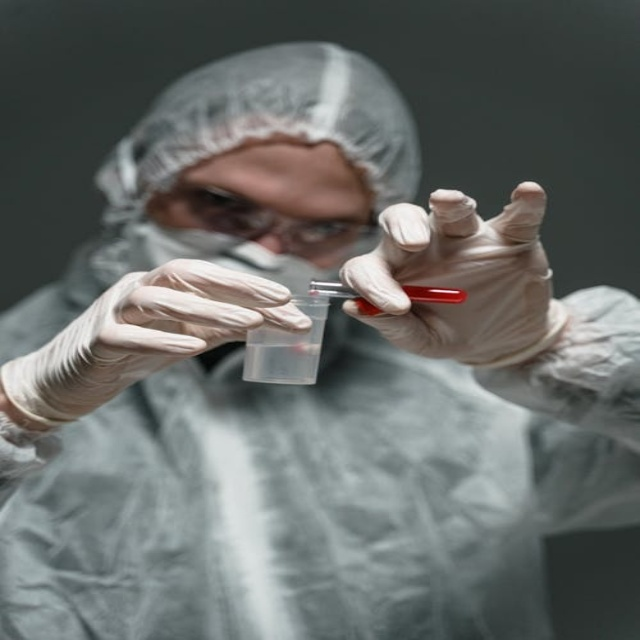Gafas: (184, 184, 380, 253)
Guantes: (0, 256, 306, 456), (338, 179, 570, 370)
Mascara: (140, 218, 338, 288)
